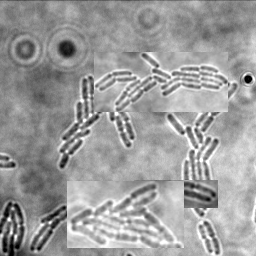Dividing: (204, 219, 222, 255), (199, 223, 215, 253)
Microcolony: (167, 57, 238, 216), (94, 52, 228, 112), (67, 181, 184, 248), (59, 75, 136, 169), (134, 180, 218, 208), (30, 204, 72, 251), (1, 200, 26, 255)
